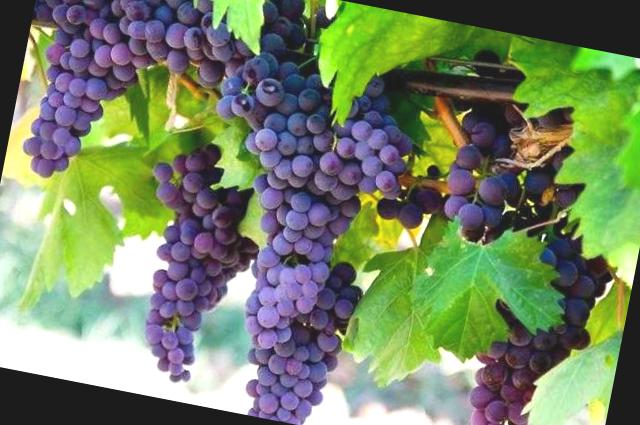Grape Ripe: (206, 68, 408, 346), (116, 112, 274, 383), (442, 197, 623, 425), (215, 216, 374, 425), (1, 0, 167, 198), (116, 0, 332, 124), (428, 112, 546, 252), (303, 100, 410, 207)
